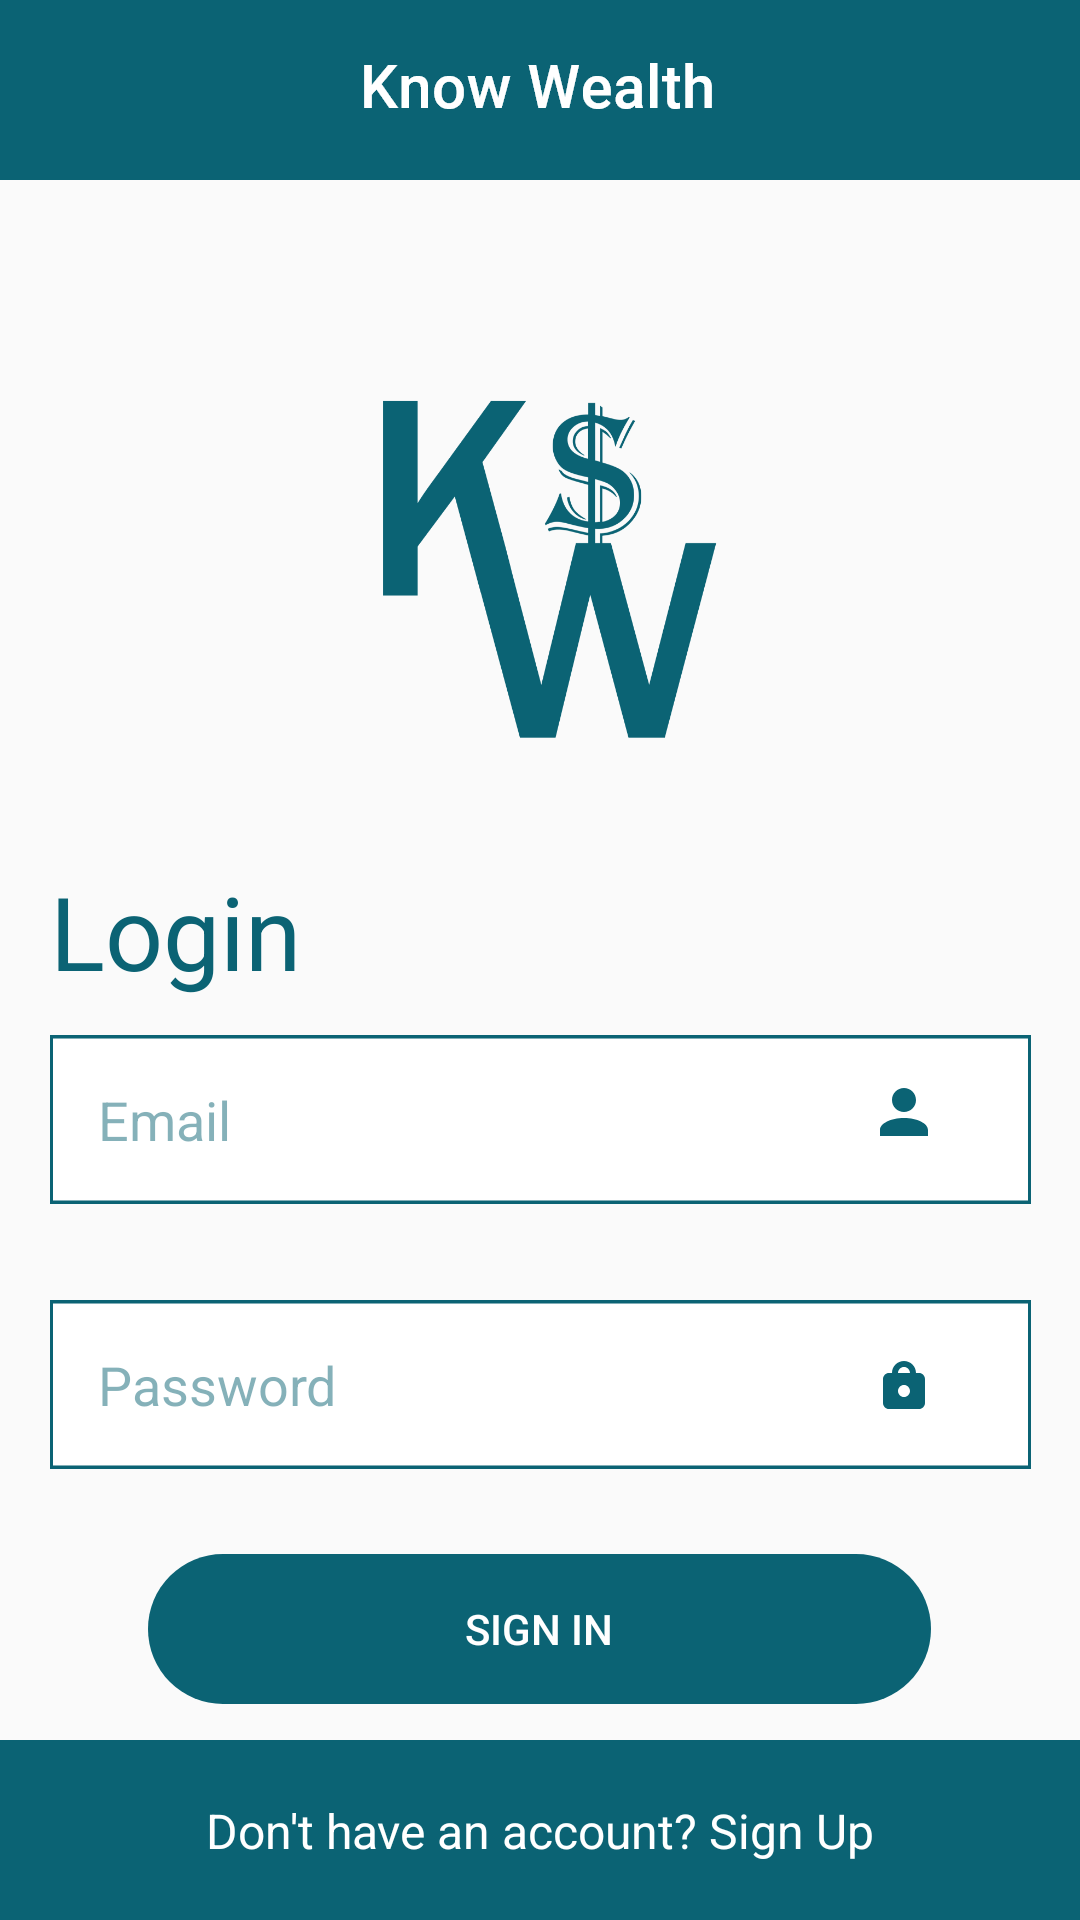

Screen size 1080 × 1920. Icon name, then its box in pixels as {"x1": x1, "y1": y1, "x2": x2, "y2": y2}:
user ID icon: {"x1": 880, "y1": 1088, "x2": 928, "y2": 1136}
